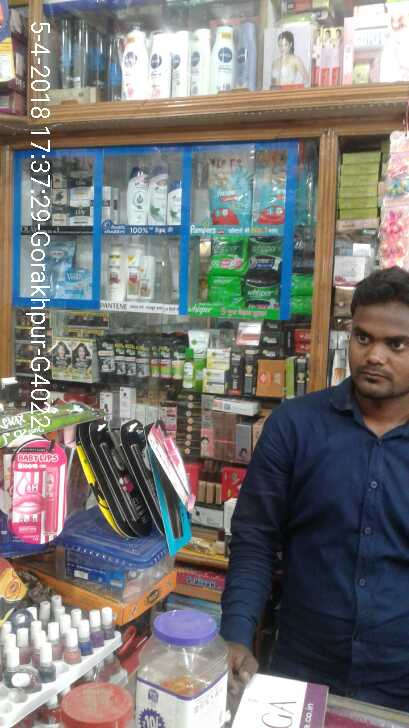venus: (50, 240, 64, 297), (65, 266, 90, 297)
